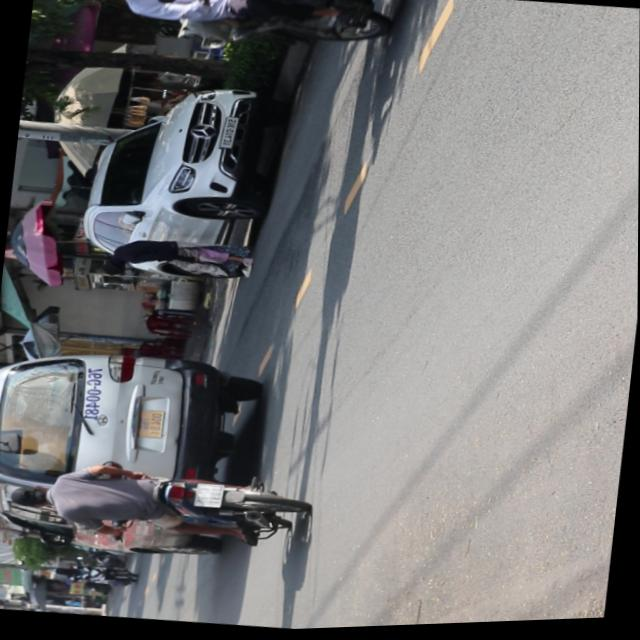licenseplate: (0, 448, 309, 560), (60, 0, 416, 70)
motorcyclist: (6, 480, 53, 510)
nohelmet: (193, 483, 222, 509)
